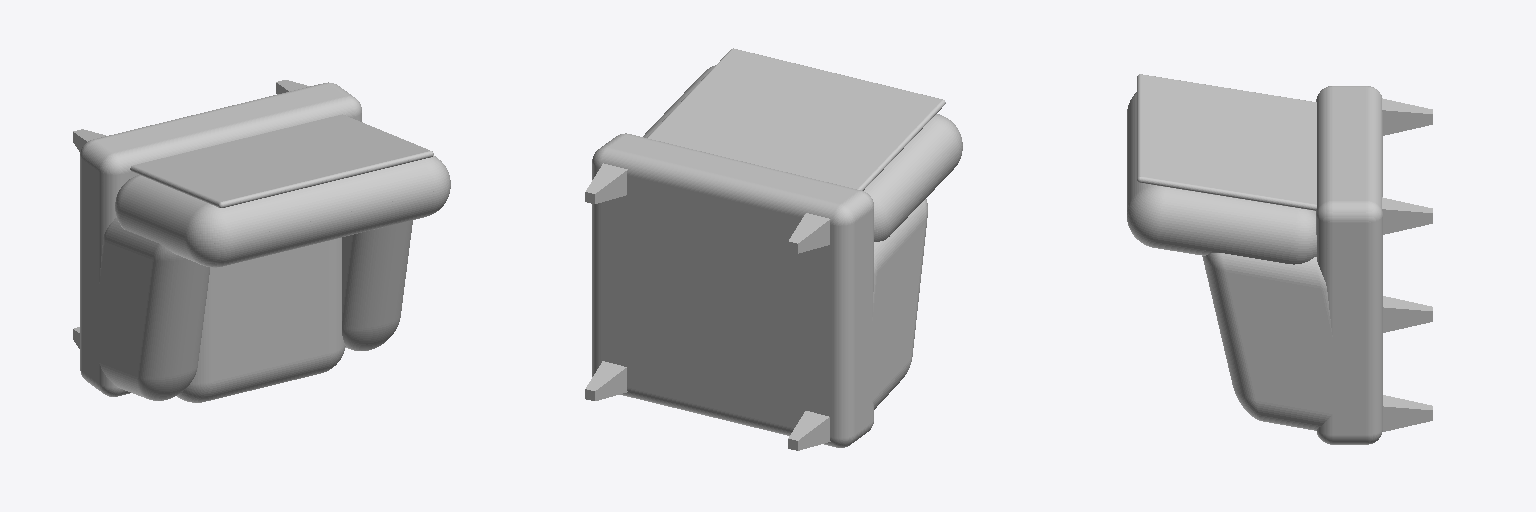
File: tinker_9.obj
The picture shows the model from 3 angles: view 1: azimuth 30°, elevation 25°; view 2: azimuth 150°, elevation 25°; view 3: azimuth 270°, elevation 25°; orthographic projection.
Parts seen in each view (by area): view 1: obj_0; view 2: obj_0; view 3: obj_0.
Boxes of the visible parts, <box> form: obj_0: <box>73,80,450,402</box>; obj_0: <box>585,48,962,450</box>; obj_0: <box>1127,74,1432,444</box>.
Size of the model in its own units: 18 by 17.22 by 18.33.